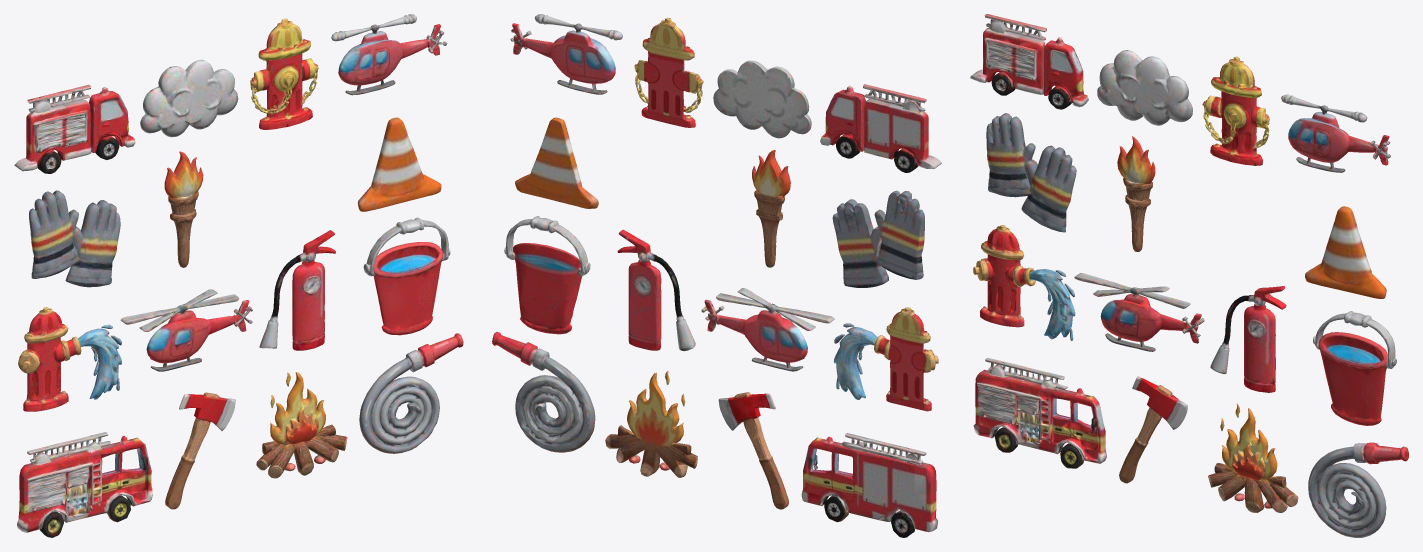
3 renders of one model, left to right at view 1: azimuth 30°, elevation 25°; view 2: azimuth 150°, elevation 25°; view 3: azimuth 330°, elevation 25°, orthographic. The views are drawn at different scales.
Parts seen in each view (by area): view 1: Mesh 10, Mesh 8, Mesh 4, Mesh 26, Mesh 25, Mesh 11, Mesh 13, Mesh 22, Mesh 17, Mesh 12, Mesh 19, Mesh 23 (+3 smaller); view 2: Mesh 10, Mesh 8, Mesh 4, Mesh 26, Mesh 25, Mesh 11, Mesh 13, Mesh 22, Mesh 17, Mesh 12, Mesh 19, Mesh 23 (+3 smaller); view 3: Mesh 10, Mesh 8, Mesh 4, Mesh 26, Mesh 25, Mesh 11, Mesh 13, Mesh 22, Mesh 17, Mesh 12, Mesh 19, Mesh 23 (+3 smaller).
Part boxes in pixels (left/top/right/bottom): Mesh 10: left=17, top=432, right=152, bottom=537; Mesh 8: left=14, top=84, right=135, bottom=173; Mesh 4: left=29, top=190, right=120, bottom=287; Mesh 26: left=363, top=217, right=450, bottom=335; Mesh 25: left=359, top=333, right=463, bottom=453; Mesh 11: left=18, top=307, right=121, bottom=411; Mesh 13: left=140, top=59, right=238, bottom=137; Mesh 22: left=256, top=372, right=347, bottom=478; Mesh 17: left=250, top=18, right=318, bottom=129; Mesh 12: left=120, top=289, right=252, bottom=371; Mesh 19: left=259, top=230, right=335, bottom=350; Mesh 23: left=331, top=14, right=447, bottom=95; Mesh 10: left=801, top=433, right=938, bottom=537; Mesh 8: left=820, top=84, right=941, bottom=172; Mesh 4: left=832, top=190, right=924, bottom=287; Mesh 26: left=504, top=216, right=590, bottom=334; Mesh 25: left=492, top=331, right=595, bottom=452; Mesh 11: left=833, top=307, right=938, bottom=411; Mesh 13: left=713, top=60, right=811, bottom=138; Mesh 22: left=605, top=371, right=697, bottom=477; Mesh 17: left=634, top=17, right=703, bottom=127; Mesh 12: left=701, top=288, right=834, bottom=371; Mesh 19: left=617, top=229, right=695, bottom=351; Mesh 23: left=510, top=14, right=622, bottom=94; Mesh 10: left=973, top=358, right=1106, bottom=468; Mesh 8: left=970, top=14, right=1088, bottom=109; Mesh 4: left=986, top=113, right=1076, bottom=232; Mesh 26: left=1313, top=311, right=1396, bottom=425; Mesh 25: left=1308, top=442, right=1408, bottom=537; Mesh 11: left=973, top=225, right=1075, bottom=340; Mesh 13: left=1097, top=50, right=1192, bottom=125; Mesh 22: left=1208, top=403, right=1298, bottom=512; Mesh 17: left=1202, top=56, right=1269, bottom=165; Mesh 12: left=1074, top=273, right=1204, bottom=351; Mesh 19: left=1210, top=286, right=1286, bottom=392; Mesh 23: left=1281, top=94, right=1390, bottom=172.
Bounding box in the file's own units: 1.9 × 1.89 × 0.0764.
Materials: 15 (15 with a texture image).
